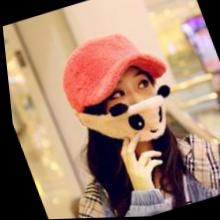WRONG: (82, 64, 175, 152)
